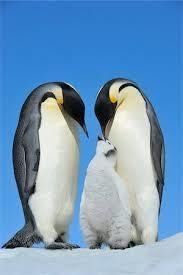emporer: (80, 74, 166, 258), (5, 75, 93, 253)
